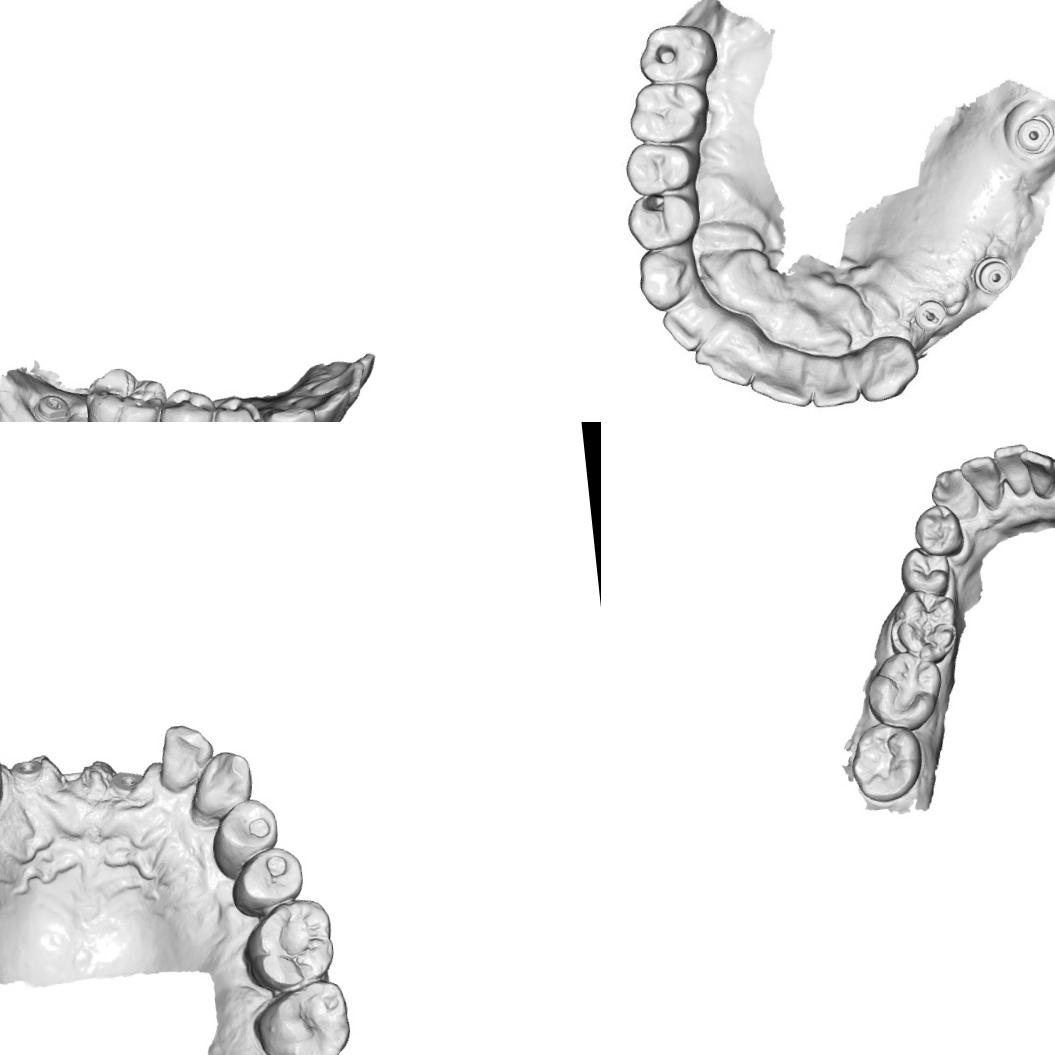canine: (186, 747, 258, 826), (854, 331, 924, 405), (635, 247, 696, 312), (910, 501, 966, 560), (927, 464, 981, 524), (259, 400, 318, 422)
implant: (967, 252, 1016, 297), (1010, 110, 1055, 158), (29, 391, 75, 422)
implant_minus: (912, 297, 947, 336)
incisor: (746, 348, 816, 416), (153, 720, 218, 793), (690, 324, 759, 392), (658, 294, 725, 356), (805, 354, 861, 414), (308, 358, 369, 406), (958, 452, 1006, 513), (288, 383, 353, 422), (991, 442, 1033, 500), (1017, 444, 1055, 502)
molar: (234, 895, 338, 998), (249, 976, 355, 1055), (861, 646, 948, 736), (846, 718, 926, 806), (883, 584, 964, 668), (633, 18, 720, 92), (625, 76, 712, 148), (78, 360, 172, 422)
premolar: (206, 794, 284, 882), (225, 844, 308, 920), (622, 188, 706, 254), (622, 136, 704, 200), (896, 542, 954, 599), (153, 382, 220, 422), (208, 390, 266, 422)
